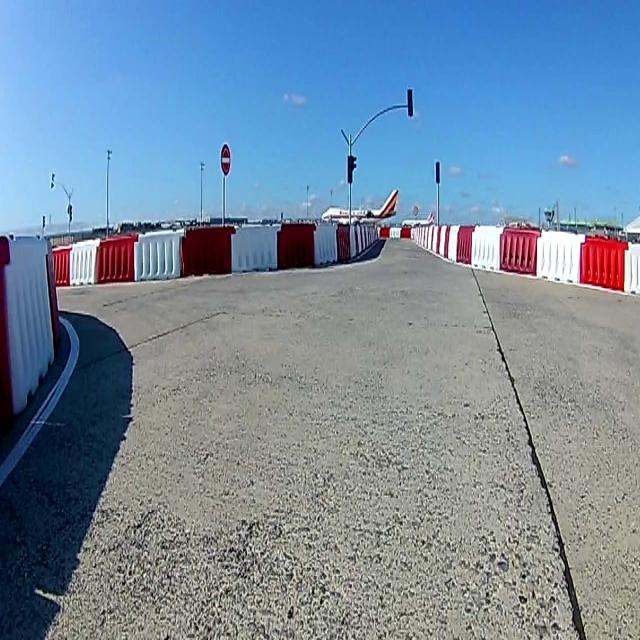girisyok: (220, 144, 232, 175)
